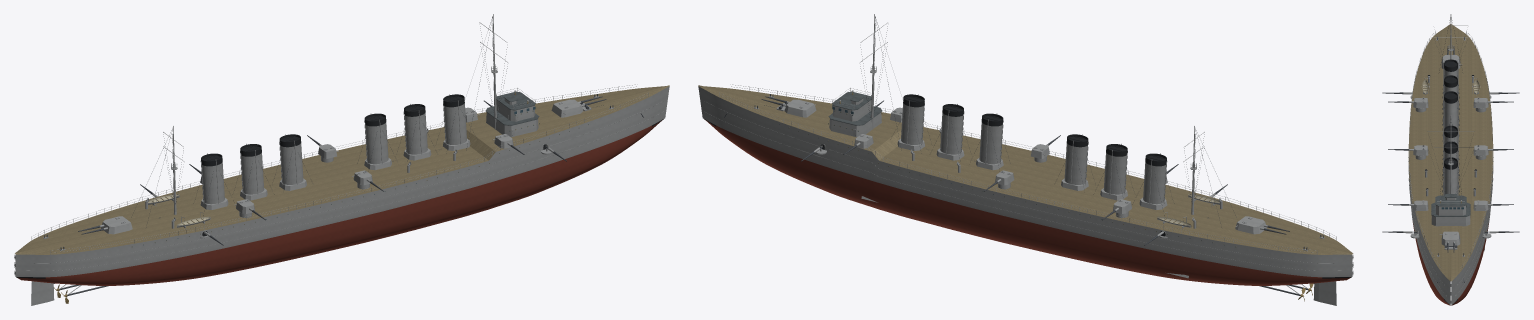
File: edgar_quinet.glb
3 renders of one model, left to right at view 1: azimuth 30°, elevation 25°; view 2: azimuth 150°, elevation 25°; view 3: azimuth 270°, elevation 25°, orthographic. The views are drawn at different scales.
Parts seen in each view (by area): view 1: Edgar Quinet class; view 2: Edgar Quinet class; view 3: Edgar Quinet class.
Part boxes in pixels (x1,y1,x2,y2): Edgar Quinet class: (14, 14, 669, 305); Edgar Quinet class: (698, 14, 1353, 305); Edgar Quinet class: (1382, 14, 1519, 305).
Size of the model in its own units: 159 by 42.21 by 34.79.
Materials: 9 (8 with a texture image).
